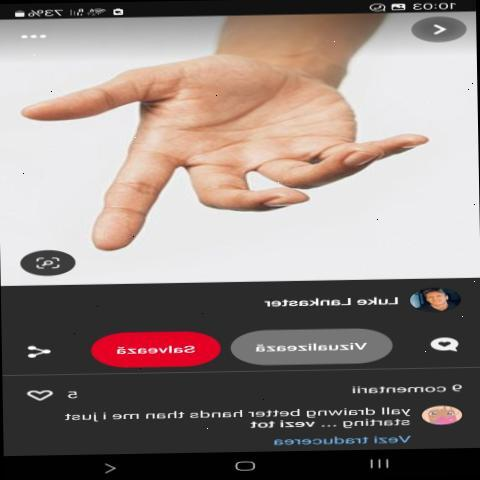Hands: (8, 48, 440, 247)
